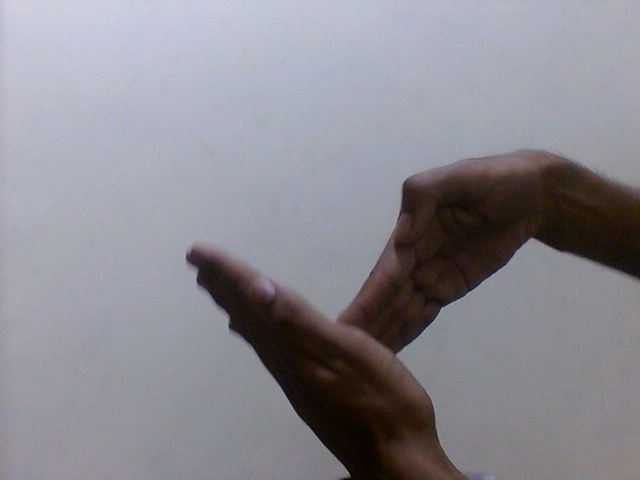hand: (182, 240, 453, 461), (333, 146, 561, 358)
